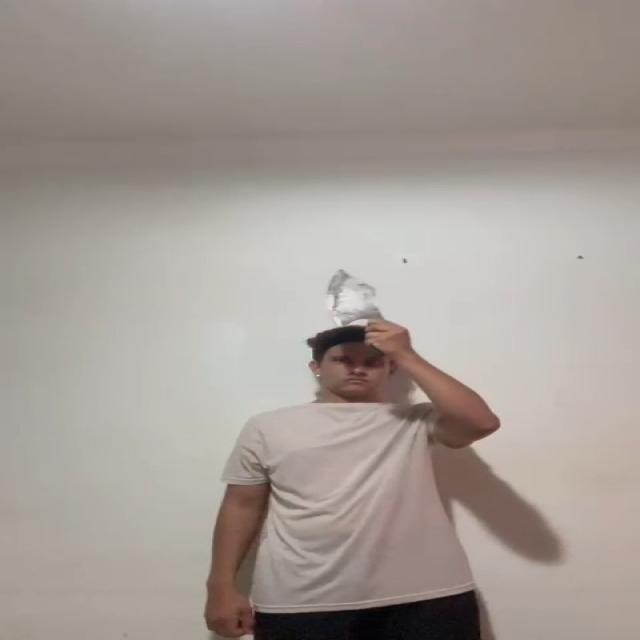knife: (326, 266, 384, 322)
